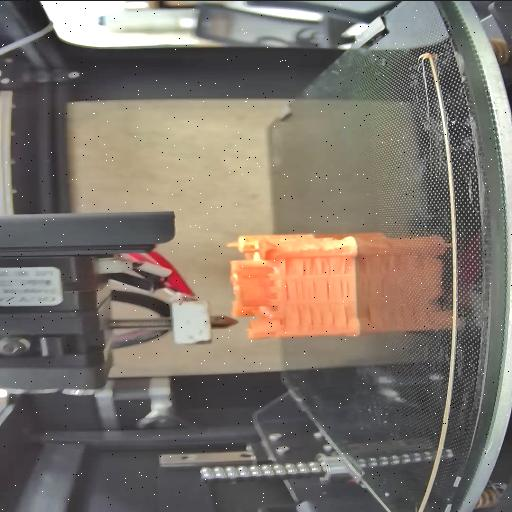cracks: (282, 278, 350, 300), (294, 303, 350, 329), (300, 254, 348, 276), (282, 256, 290, 276)
